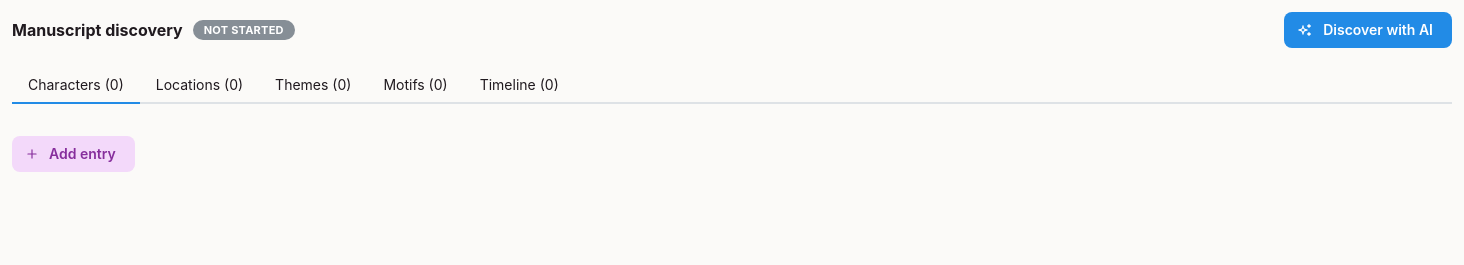
Scenario: WorldBibleEditor discovery › shows a queue failure inline
Click the button "Discover with AI".
click(1368, 30)  # box x1=1284 y1=12 x2=1452 y2=48
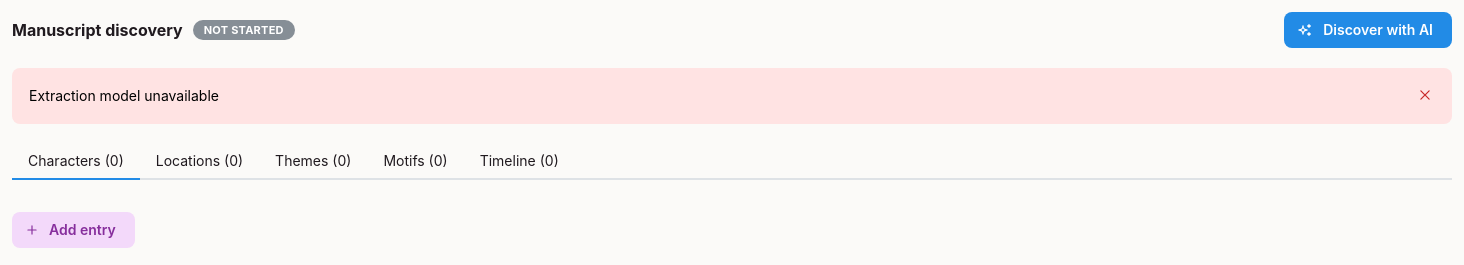
Expected: the text "Extraction model unavailable" is shown, x1=29 y1=87 x2=219 y2=104
